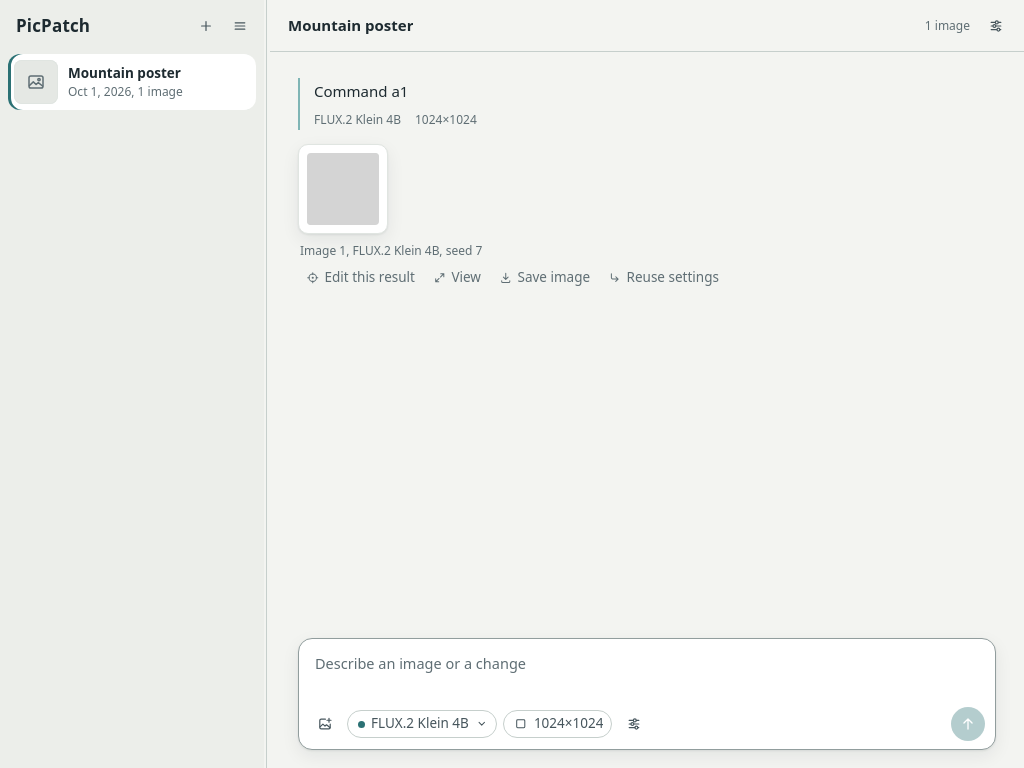
keeps export choices after a filename conflict and retries only on an explicit click
Expected: the text box named "Command" is shown, left=309, top=649, right=985, bottom=701
Click the button "Save image" at (545, 277), box left=491, top=263, right=598, bottom=291
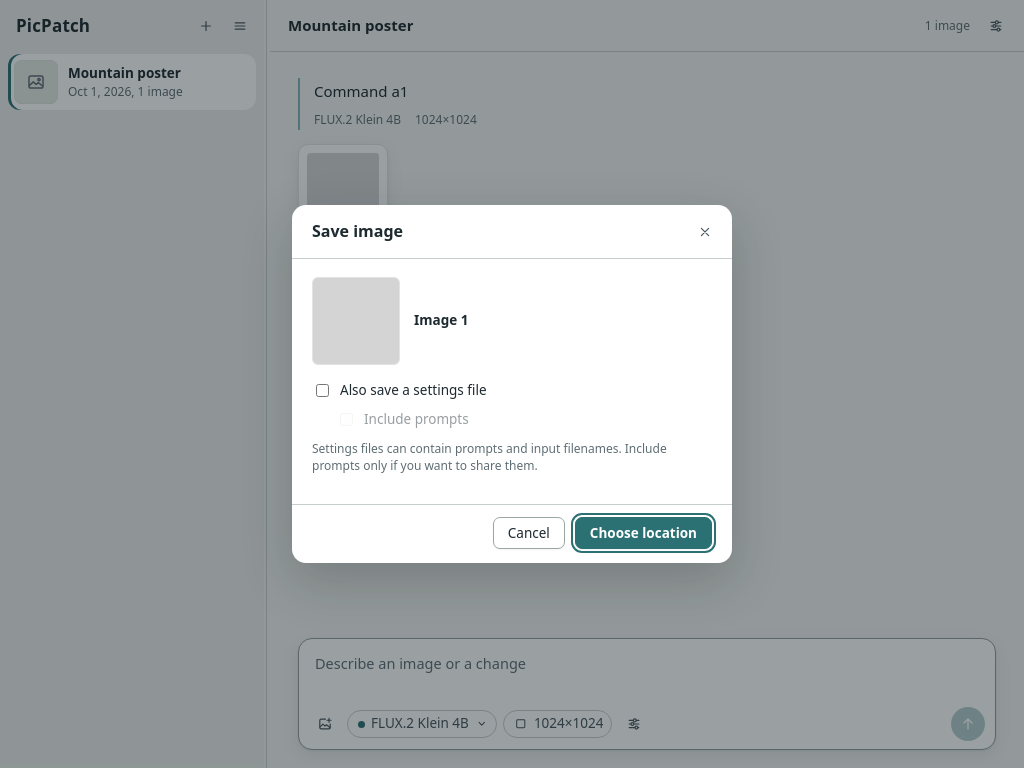
Click the checkbox labelled "Also save a settings file" at (322, 390), box left=316, top=384, right=329, bottom=397
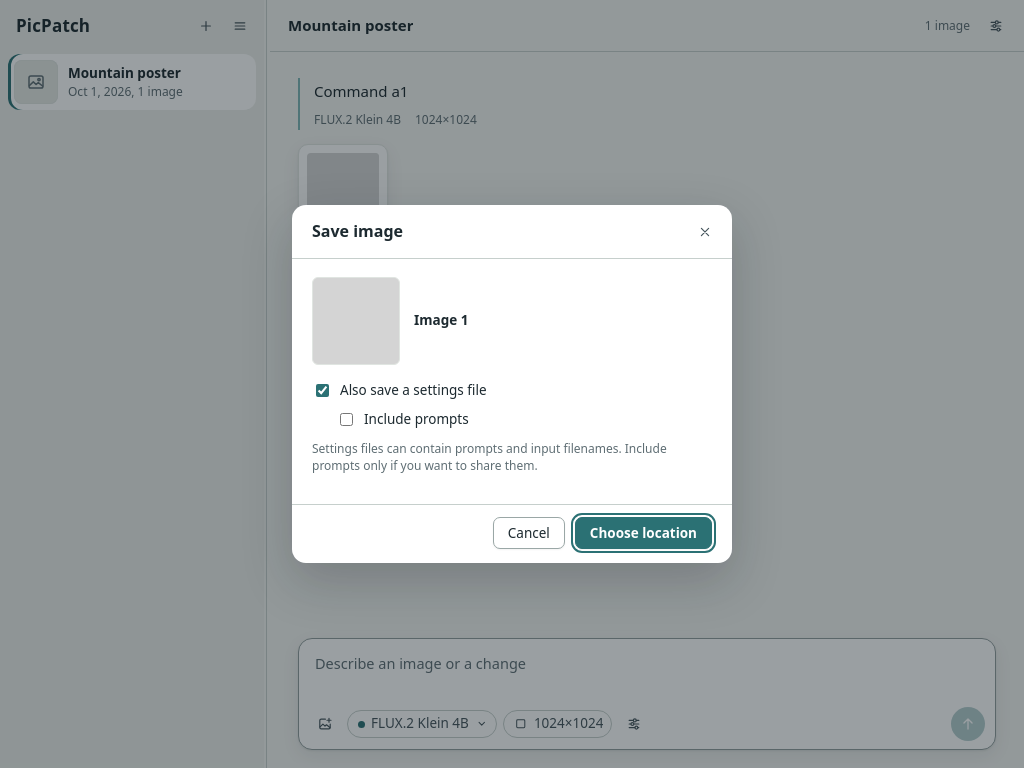
Click the checkbox labelled "Include prompts" at (346, 420), box left=340, top=413, right=353, bottom=426
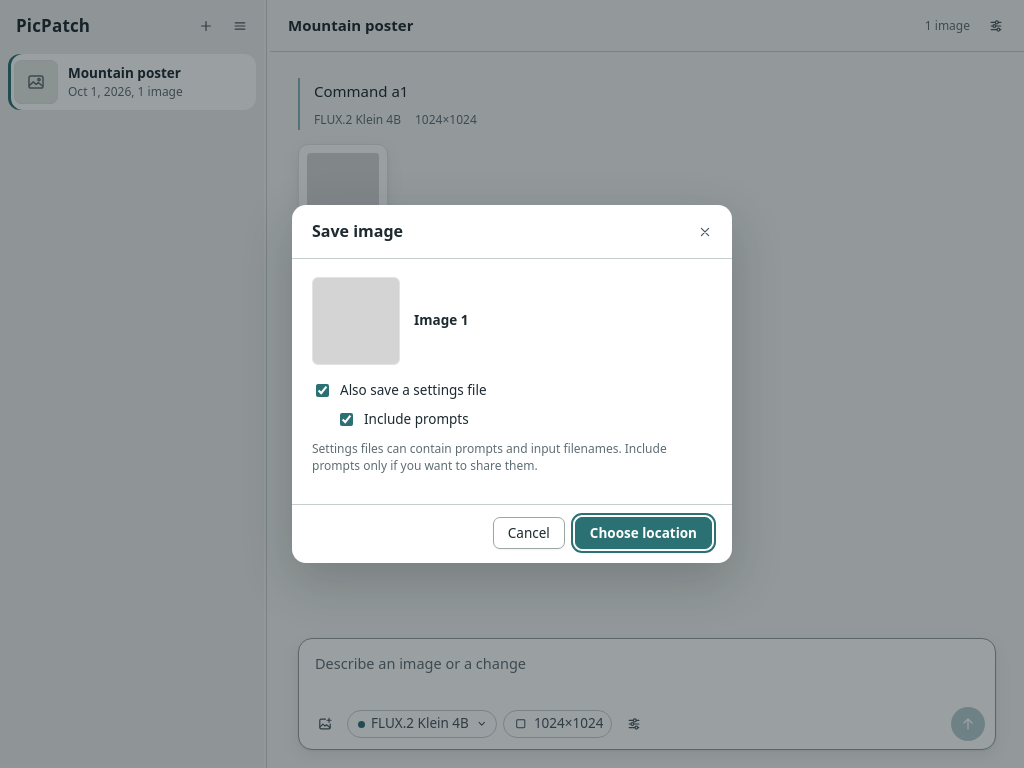
Click the button "Choose location" at (643, 534), box left=575, top=518, right=712, bottom=550
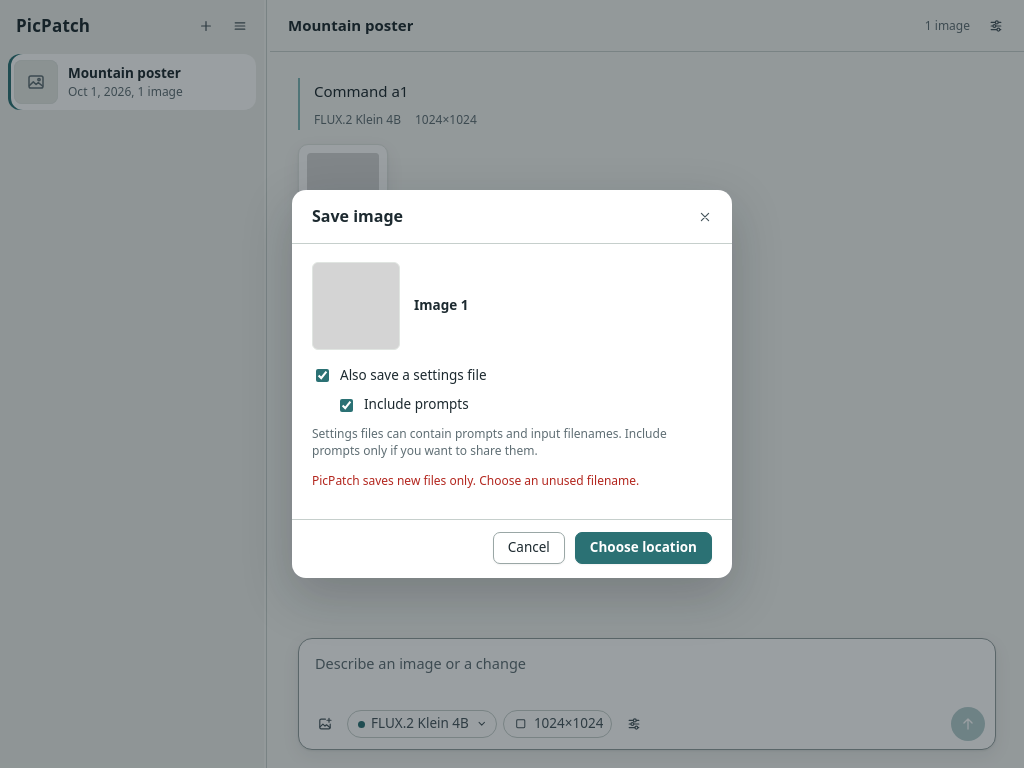
Now the checkbox labelled "Also save a settings file" is checked, box left=316, top=369, right=329, bottom=382
Now the checkbox labelled "Include prompts" is checked, box left=340, top=399, right=353, bottom=412
Now the message reads "PicPatch saves new files only. Choose an unused filename.", box left=312, top=472, right=639, bottom=489
Click the button "Choose location" at (643, 548), box left=575, top=532, right=712, bottom=564
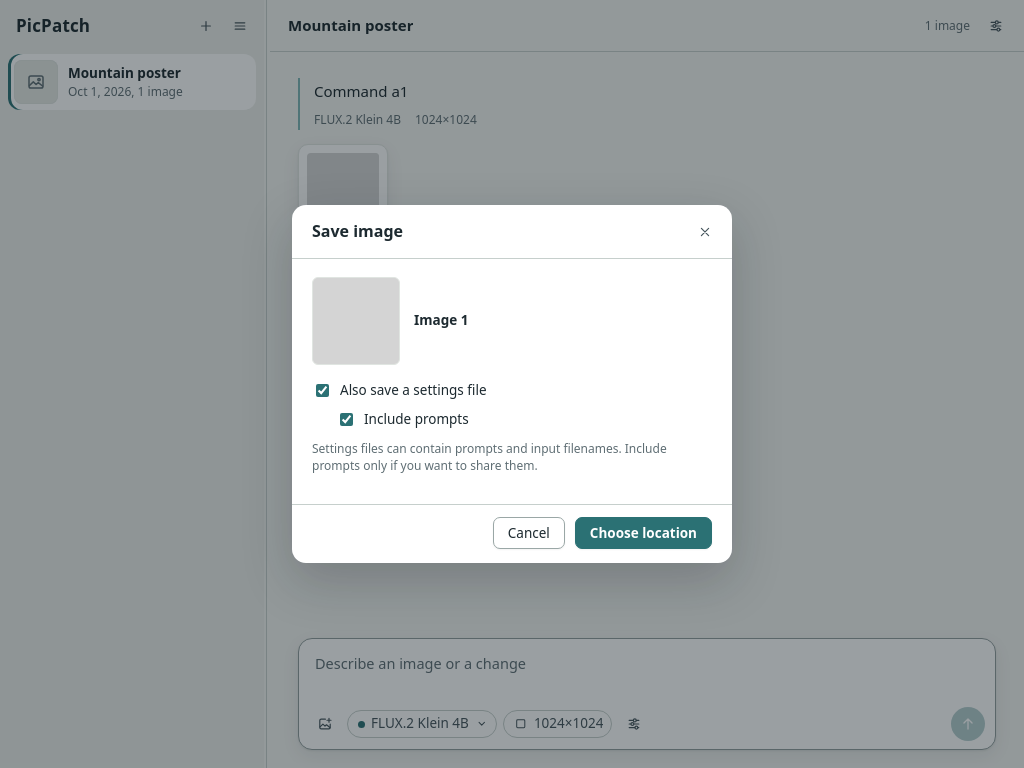
Now the checkbox labelled "Also save a settings file" is checked, box left=316, top=384, right=329, bottom=397
Now the checkbox labelled "Include prompts" is checked, box left=340, top=413, right=353, bottom=426
Now the button "Choose location" is enabled
Click the button "Choose location" at (643, 534), box left=575, top=518, right=712, bottom=550
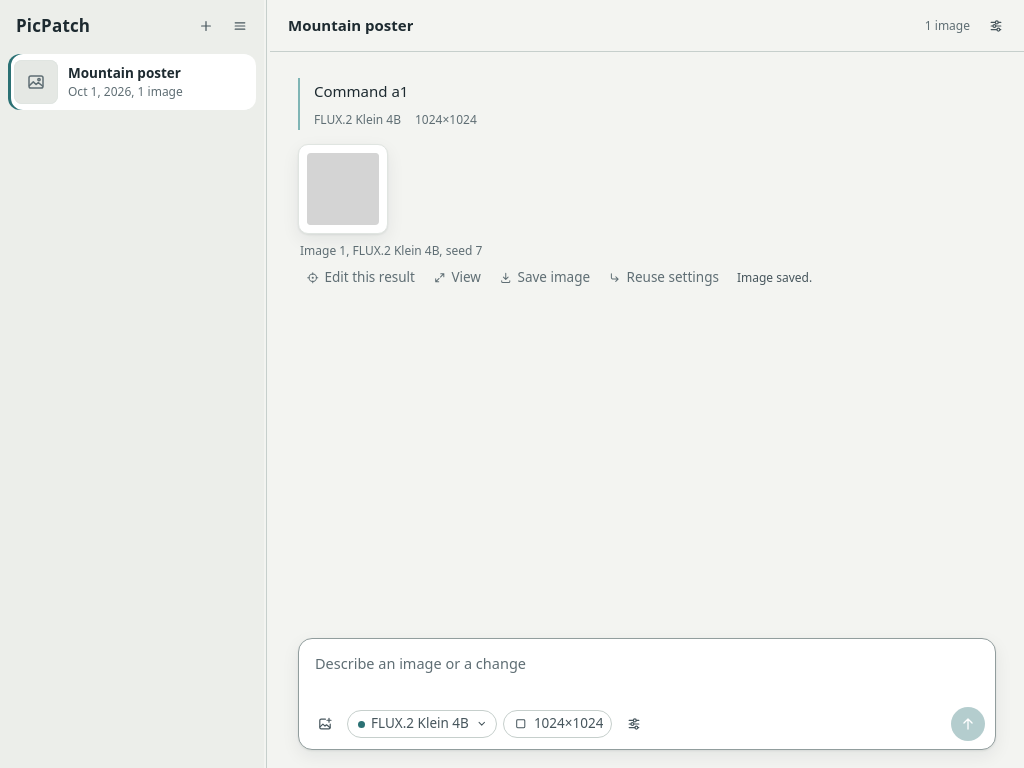
Now the text "Image saved." is shown, box left=737, top=269, right=812, bottom=286
